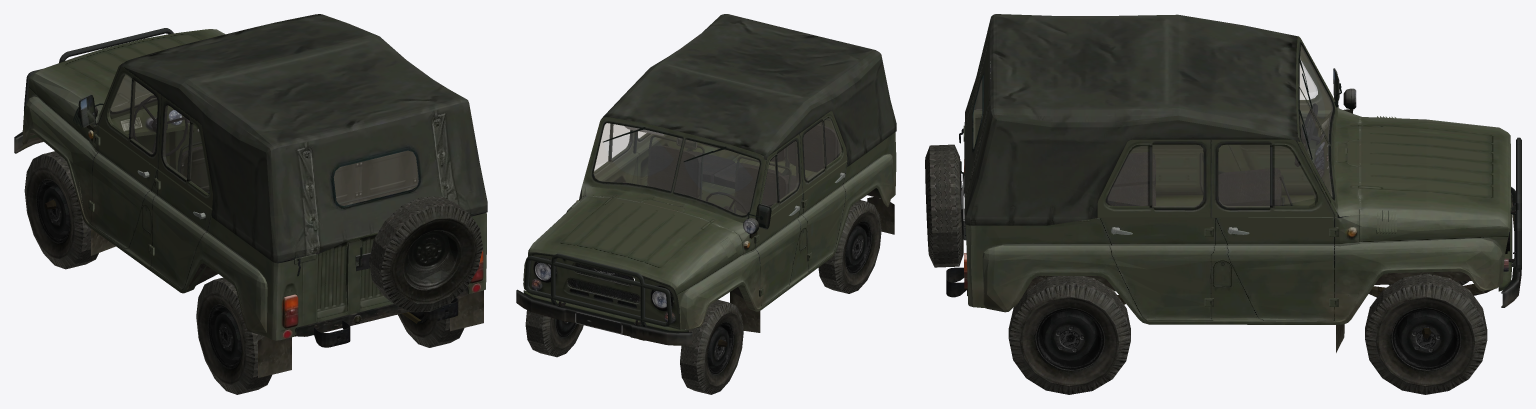
File: jeep_uaz469.glb
The picture shows the model from 3 angles, left to right: view 1: azimuth 30°, elevation 25°; view 2: azimuth 150°, elevation 25°; view 3: azimuth 270°, elevation 25°; orthographic projection. The views are drawn at different scales.
Visible parts, largest first — view 1: Object_31, Object_9, Object_7, Object_5, Object_29; view 2: Object_9, Object_31, Object_5, Object_29, Object_7; view 3: Object_9, Object_31, Object_5, Object_7, Object_29.
Boxes of the visible parts, x1,y1,x2,y2 form: Object_31: (14, 14, 487, 377); Object_9: (22, 29, 486, 394); Object_7: (111, 95, 482, 312); Object_5: (108, 74, 418, 205); Object_29: (24, 28, 173, 111); Object_9: (523, 111, 896, 394); Object_31: (516, 14, 896, 346); Object_5: (593, 117, 842, 215); Object_29: (524, 253, 672, 326); Object_7: (604, 117, 840, 215); Object_9: (929, 36, 1510, 394); Object_31: (946, 14, 1521, 352); Object_5: (973, 45, 1332, 206); Object_7: (925, 103, 1339, 266); Object_29: (1511, 137, 1521, 271).
Size of the model in its own units: 1.94 by 2.07 by 4.
Materials: 4 (4 with a texture image).
